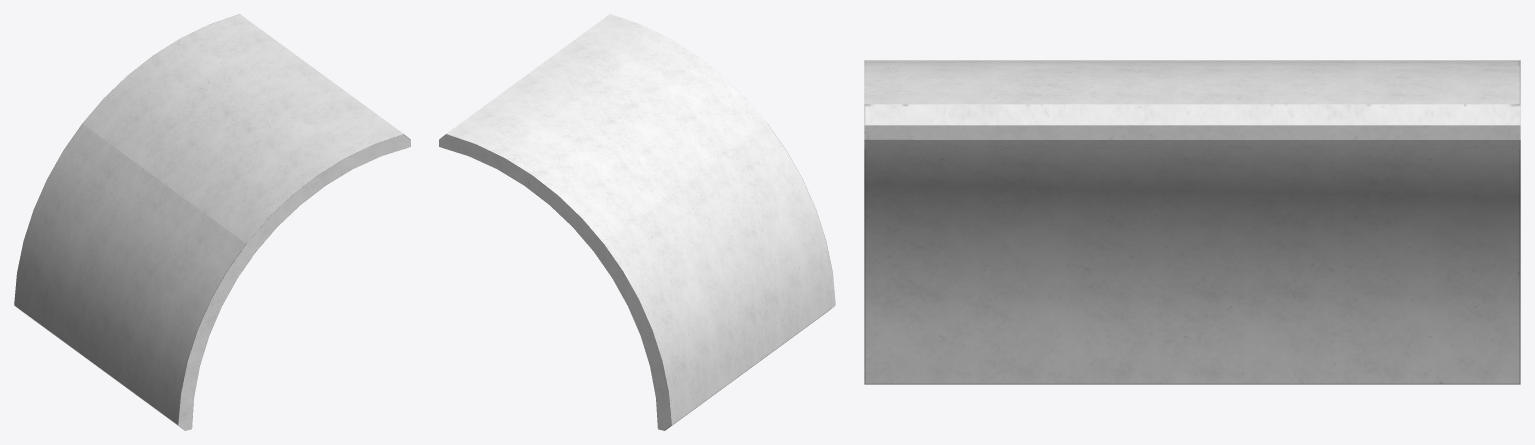
Rendered from module-shield-01.glb.
The picture shows the model from 3 angles, left to right: view 1: azimuth 30°, elevation 25°; view 2: azimuth 150°, elevation 25°; view 3: azimuth 270°, elevation 25°; orthographic projection. The views are drawn at different scales.
Parts seen in each view (by area): view 1: Mesh_0; view 2: Mesh_0; view 3: Mesh_0.
Part boxes in pixels (bbox=[...]): Mesh_0: bbox=[14, 14, 410, 430]; Mesh_0: bbox=[439, 14, 835, 430]; Mesh_0: bbox=[864, 60, 1520, 384].
Bounding box in the file's own units: 1.17 × 1.17 × 1.43.
Materials: 1 (1 with a texture image).
